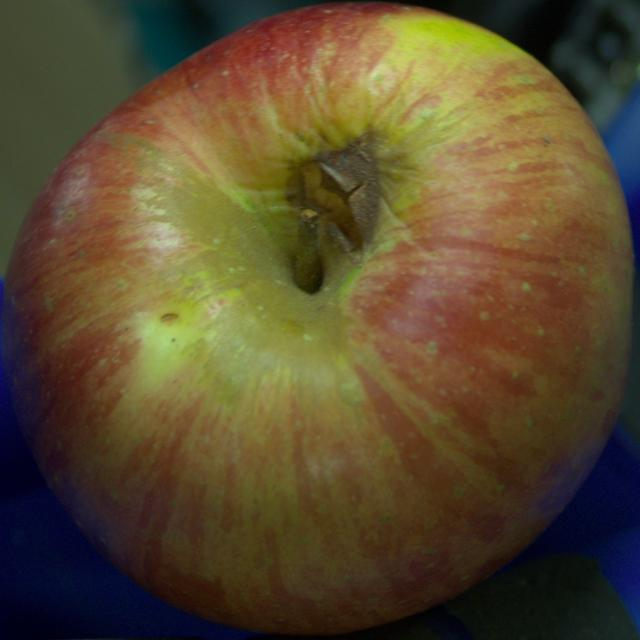apple: (2, 3, 633, 634)
scratch: (289, 133, 381, 251), (161, 313, 178, 321)
